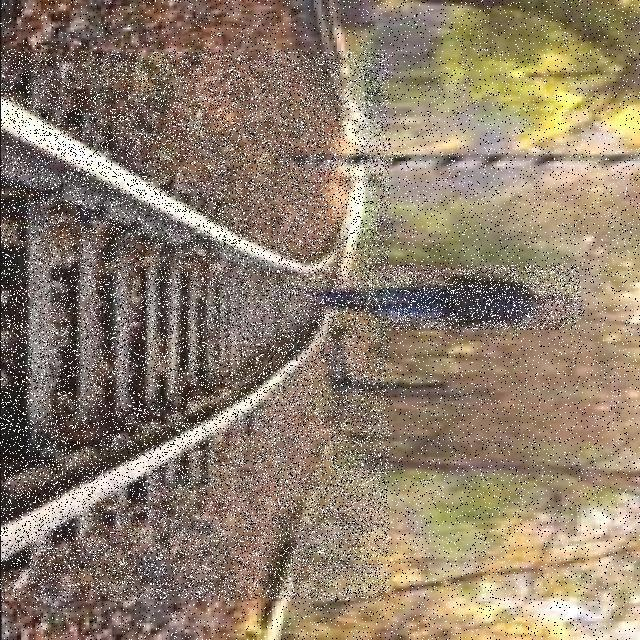rail: (2, 54, 390, 600)
